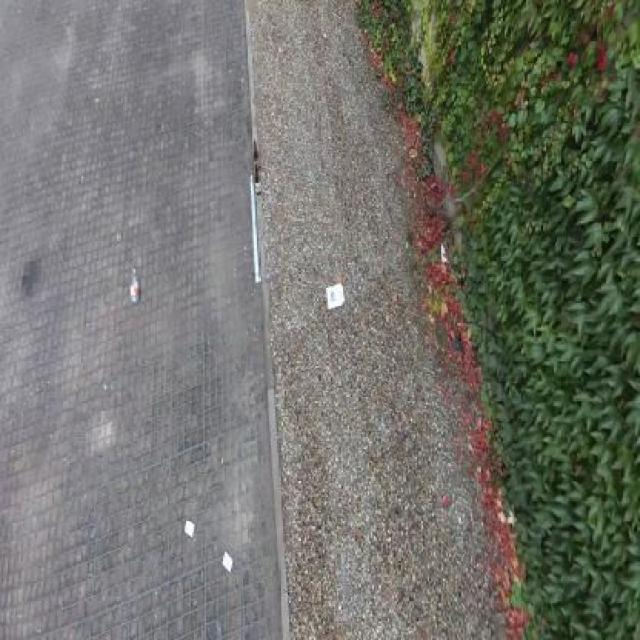Garbage: (250, 173, 261, 283), (326, 283, 344, 311), (222, 550, 234, 572), (131, 269, 138, 303), (184, 519, 195, 536), (255, 165, 261, 195), (254, 141, 259, 174)
